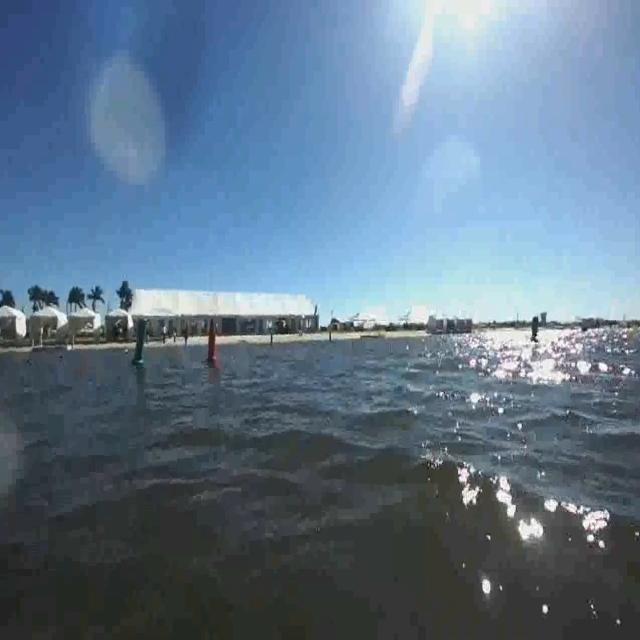green-column-buoy: (132, 320, 150, 369)
red-column-buoy: (205, 321, 220, 367)
